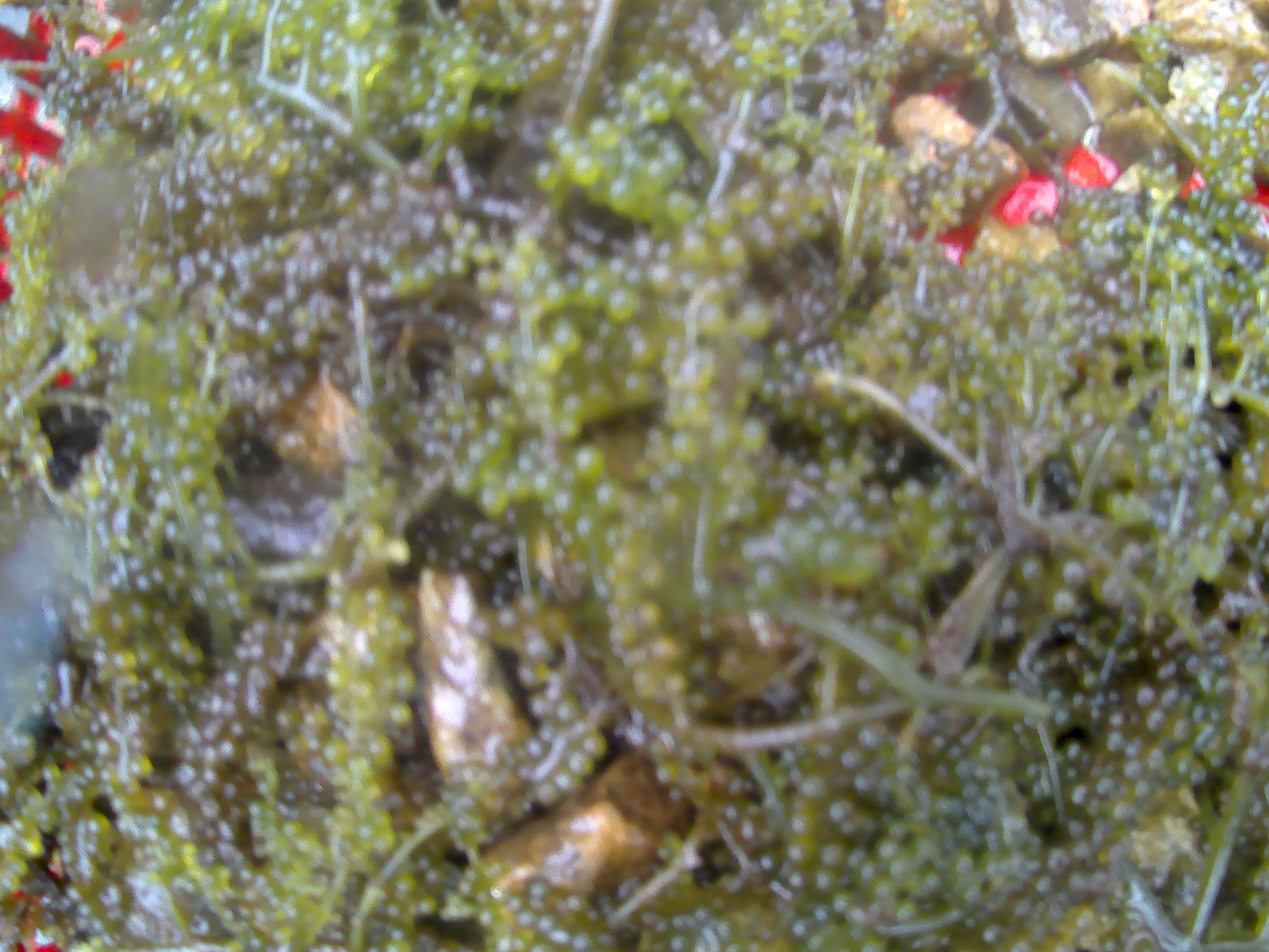Darkening: (797, 770, 831, 804), (837, 744, 866, 771), (1132, 684, 1161, 710), (1066, 874, 1093, 901), (582, 732, 609, 759), (688, 653, 713, 681), (534, 782, 560, 808), (811, 738, 837, 764), (1046, 850, 1073, 874), (1153, 661, 1179, 685), (828, 796, 855, 819), (697, 620, 721, 644), (688, 690, 712, 713), (1143, 709, 1166, 732), (555, 771, 579, 793), (1099, 278, 1121, 301), (568, 755, 592, 776), (1070, 839, 1092, 861), (1136, 684, 1156, 707), (487, 539, 511, 558), (1105, 730, 1125, 752), (920, 164, 941, 184), (1066, 819, 1086, 839), (902, 180, 922, 197), (203, 746, 219, 767), (285, 618, 302, 637), (1030, 211, 1049, 227), (179, 766, 193, 786), (254, 618, 269, 636), (301, 592, 316, 610), (258, 678, 273, 696), (885, 457, 900, 474), (187, 724, 199, 745), (222, 743, 237, 759), (205, 722, 220, 738), (285, 594, 300, 610), (654, 917, 669, 933), (234, 643, 247, 661), (224, 781, 235, 802), (241, 627, 255, 643), (283, 641, 299, 655), (203, 768, 216, 785), (227, 670, 240, 687), (254, 642, 267, 659), (233, 727, 249, 740), (224, 706, 236, 720), (208, 700, 220, 711)
Harvestable: (572, 446, 609, 482), (814, 532, 849, 568), (584, 119, 618, 152), (1043, 586, 1077, 618), (594, 480, 624, 514), (785, 834, 816, 866), (930, 791, 962, 820), (1168, 745, 1197, 777), (533, 345, 566, 373), (569, 154, 599, 184), (124, 598, 154, 628), (551, 324, 580, 355), (322, 735, 351, 766), (391, 665, 419, 697), (477, 487, 506, 517), (787, 528, 816, 558), (544, 279, 572, 309), (344, 11, 372, 39), (818, 840, 846, 868), (386, 700, 414, 728), (385, 538, 412, 567), (1057, 558, 1086, 585), (867, 611, 895, 638), (896, 623, 922, 651), (812, 866, 837, 894), (893, 761, 921, 786), (113, 647, 139, 673), (183, 435, 209, 461), (553, 490, 578, 517), (169, 72, 194, 98), (664, 672, 689, 698), (582, 342, 607, 368), (951, 849, 976, 875), (452, 473, 477, 499), (485, 426, 511, 451), (927, 488, 951, 515), (394, 871, 419, 896), (470, 241, 495, 266), (531, 472, 555, 498), (871, 876, 897, 900), (901, 478, 925, 503), (754, 563, 777, 589), (194, 55, 217, 80), (920, 869, 943, 894), (596, 320, 621, 343), (733, 26, 755, 52), (467, 441, 490, 465), (1219, 95, 1243, 118), (692, 575, 714, 600), (865, 483, 888, 506), (183, 645, 206, 668), (750, 39, 772, 63), (142, 75, 164, 99), (780, 55, 802, 78), (960, 779, 982, 802), (831, 889, 853, 912), (877, 837, 900, 859), (620, 82, 642, 105), (954, 757, 976, 780), (356, 820, 379, 842), (159, 44, 181, 66), (217, 81, 239, 103), (887, 818, 909, 840), (857, 813, 879, 835), (1146, 442, 1167, 465), (807, 514, 828, 536), (1146, 465, 1167, 487), (959, 516, 980, 538), (501, 410, 522, 432), (645, 160, 666, 182), (858, 860, 877, 884), (944, 743, 965, 764), (846, 846, 867, 867), (559, 467, 580, 488), (282, 819, 304, 839), (450, 257, 470, 278), (827, 457, 847, 478), (418, 894, 438, 915), (517, 453, 537, 474), (1122, 759, 1142, 779), (847, 906, 867, 926), (848, 516, 867, 537), (1132, 779, 1151, 799), (742, 585, 761, 605), (1189, 764, 1207, 785), (1191, 249, 1210, 268), (202, 510, 221, 529), (1135, 426, 1154, 445), (127, 553, 146, 572), (1203, 458, 1221, 477), (462, 221, 481, 239), (791, 919, 809, 938), (807, 933, 826, 951), (1096, 776, 1114, 794), (1054, 707, 1071, 726), (520, 282, 537, 300), (451, 47, 468, 65), (648, 474, 665, 492), (413, 266, 430, 284), (609, 258, 626, 275), (789, 871, 806, 888), (517, 909, 534, 926), (670, 934, 687, 951), (533, 261, 549, 279), (453, 238, 469, 255), (1209, 752, 1225, 769), (733, 55, 749, 72), (165, 522, 180, 540), (538, 915, 554, 931), (814, 905, 829, 922), (290, 0, 308, 13), (892, 488, 906, 504), (1239, 159, 1254, 173), (161, 15, 175, 29)
Whitening: (1211, 76, 1226, 91), (1188, 104, 1202, 118), (1205, 86, 1219, 100), (1203, 100, 1216, 115), (1181, 114, 1194, 126), (1171, 66, 1183, 78), (1173, 88, 1184, 100)
